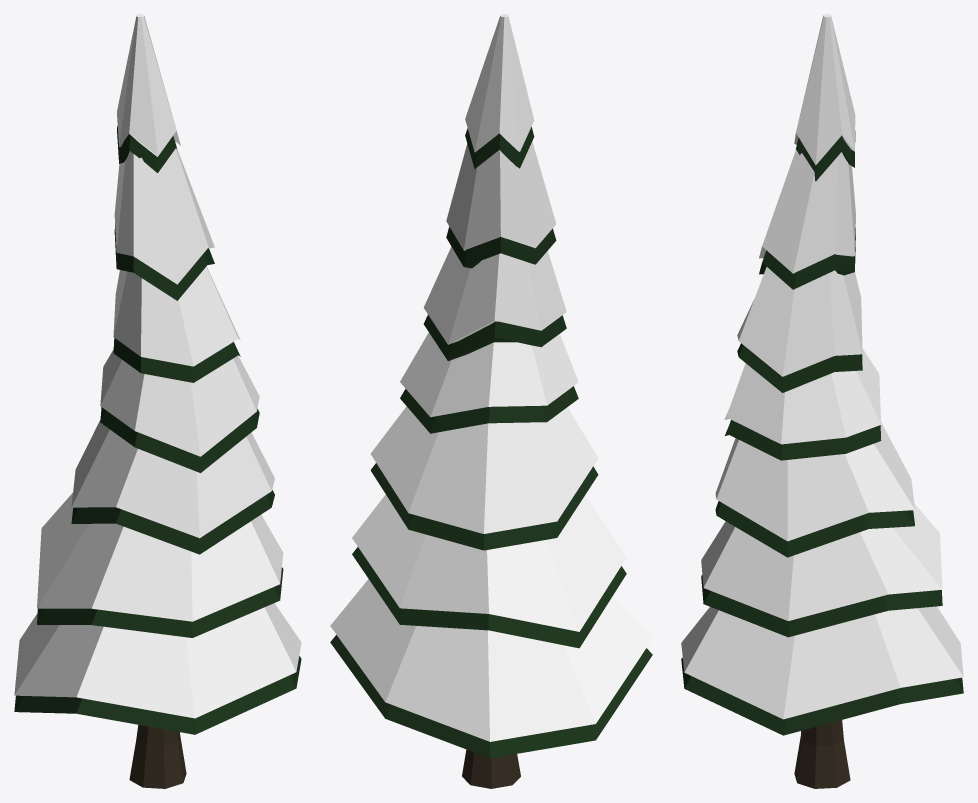
The model's file is Tree_5.obj.
3 renders of one model, left to right at view 1: azimuth 30°, elevation 25°; view 2: azimuth 150°, elevation 25°; view 3: azimuth 270°, elevation 25°, orthographic.
Parts seen in each view (by area): view 1: Cylinder.004_Cylinder.003; view 2: Cylinder.004_Cylinder.003; view 3: Cylinder.004_Cylinder.003.
Boxes of the visible parts, <box> form: Cylinder.004_Cylinder.003: <box>14,14,301,788</box>; Cylinder.004_Cylinder.003: <box>330,14,652,788</box>; Cylinder.004_Cylinder.003: <box>681,14,963,788</box>.
Bounding box in the file's own units: 1.66 × 4.88 × 1.66.
